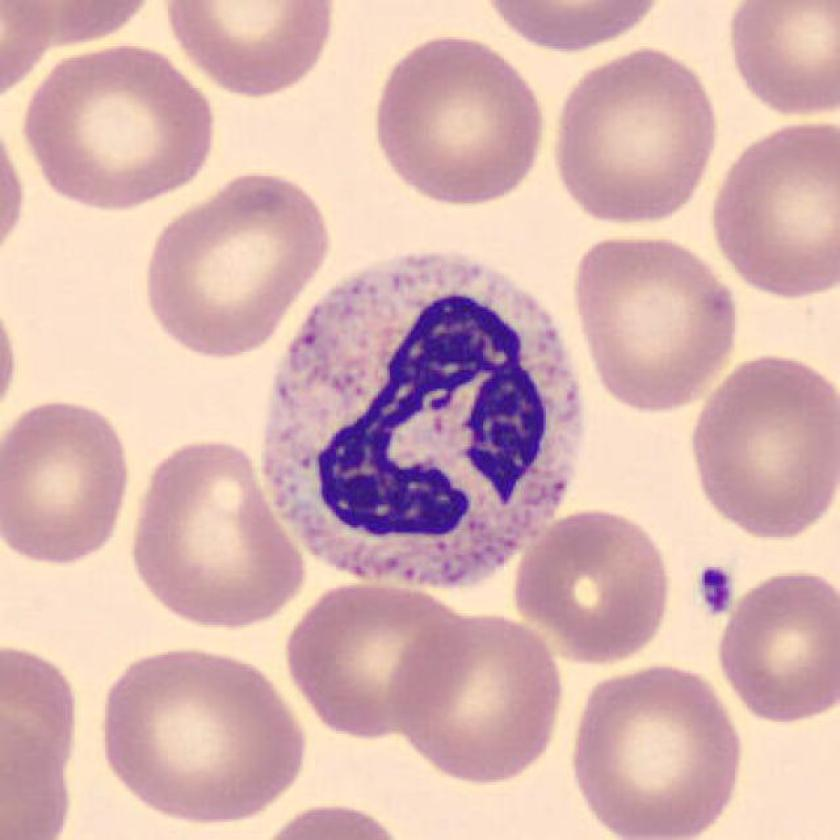neutrophil: (266, 256, 580, 587)
